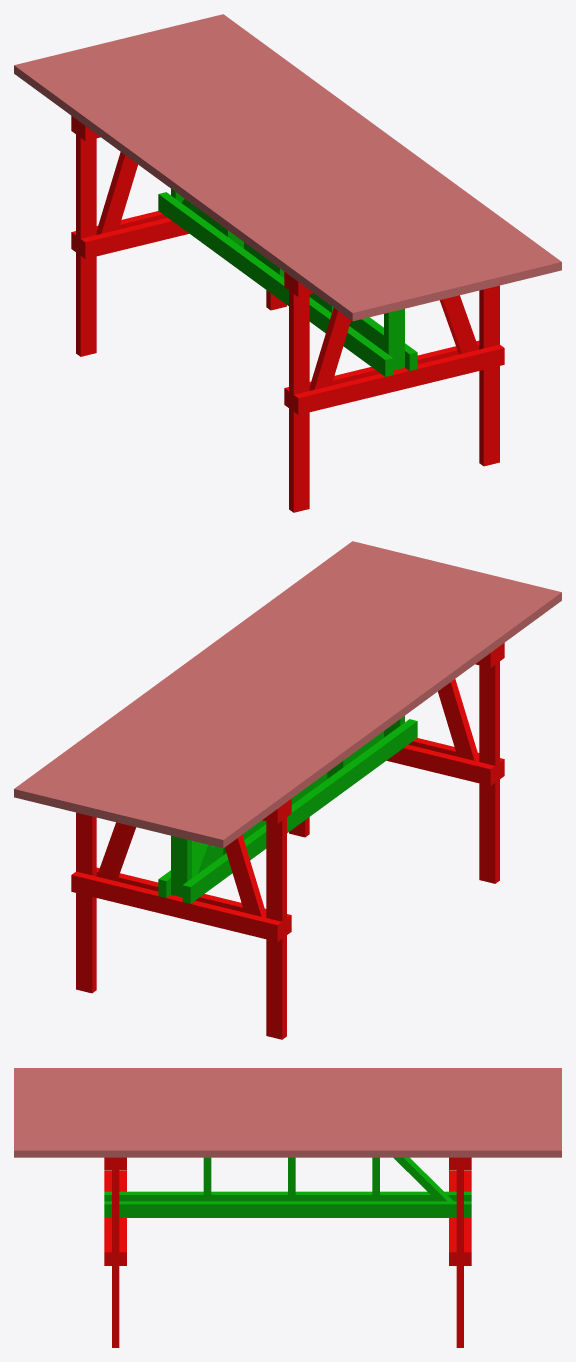
The model's file is result.glb.
3 renders of one model, top to bottom at view 1: azimuth 30°, elevation 25°; view 2: azimuth 150°, elevation 25°; view 3: azimuth 270°, elevation 25°, orthographic. The views are drawn at different scales.
Parts seen in each view (by area): view 1: 64c8e6c8-3844-4141-b42c-e5c18e9bd675__Box, 8f3fec48-50f9-4af4-b13b-73aef767db46__undefined, b4b7ebe3-3638-465e-91d8-79dbf4bd7125__undefined, 7a75452f-1663-47a5-9589-6c53cd72e0da__undefined, 125b6901-0248-40c8-92f4-7560e850ba07__undefined, b6d9eb4f-c9fe-4c9b-aad7-c926278a6fe2__undefined, 99f50f9e-8b29-4b91-a732-94531a97c9c9__undefined, 4fe8550d-0d2f-4fe7-bb27-e0c4a76a5436__undefined, 6ec6ea55-748f-479d-98bf-7e669bf8c9d5__undefined, d0fb13f0-03bb-4c6f-8eee-e5c182023d3f__undefined, b7c4f537-daaa-4b14-bb0e-05a75bc0e2c0__undefined, 234124cc-a335-464b-ab91-2c3960a74708__undefined (+13 smaller); view 2: 64c8e6c8-3844-4141-b42c-e5c18e9bd675__Box, 8f3fec48-50f9-4af4-b13b-73aef767db46__undefined, b4b7ebe3-3638-465e-91d8-79dbf4bd7125__undefined, 7a75452f-1663-47a5-9589-6c53cd72e0da__undefined, 125b6901-0248-40c8-92f4-7560e850ba07__undefined, b6d9eb4f-c9fe-4c9b-aad7-c926278a6fe2__undefined, 99f50f9e-8b29-4b91-a732-94531a97c9c9__undefined, 4fe8550d-0d2f-4fe7-bb27-e0c4a76a5436__undefined, 6ec6ea55-748f-479d-98bf-7e669bf8c9d5__undefined, d0fb13f0-03bb-4c6f-8eee-e5c182023d3f__undefined, b7c4f537-daaa-4b14-bb0e-05a75bc0e2c0__undefined, 234124cc-a335-464b-ab91-2c3960a74708__undefined (+13 smaller); view 3: 234124cc-a335-464b-ab91-2c3960a74708__undefined, a39efc03-6f25-4f58-bf3a-68cd64649c8c__strutH, 64c8e6c8-3844-4141-b42c-e5c18e9bd675__Box, 7a75452f-1663-47a5-9589-6c53cd72e0da__undefined, b6d9eb4f-c9fe-4c9b-aad7-c926278a6fe2__undefined, fd4c2e9e-67f8-42f8-b568-873e5a9f265a__undefined, b7c4f537-daaa-4b14-bb0e-05a75bc0e2c0__undefined, 99f50f9e-8b29-4b91-a732-94531a97c9c9__undefined, 125b6901-0248-40c8-92f4-7560e850ba07__undefined, 8f3fec48-50f9-4af4-b13b-73aef767db46__undefined, 4fe8550d-0d2f-4fe7-bb27-e0c4a76a5436__undefined, b4b7ebe3-3638-465e-91d8-79dbf4bd7125__undefined (+13 smaller).
Part boxes in pixels (<box>): 64c8e6c8-3844-4141-b42c-e5c18e9bd675__Box: <box>14,61,368,321</box>; 8f3fec48-50f9-4af4-b13b-73aef767db46__undefined: <box>127,34,481,293</box>; b4b7ebe3-3638-465e-91d8-79dbf4bd7125__undefined: <box>159,26,513,285</box>; 7a75452f-1663-47a5-9589-6c53cd72e0da__undefined: <box>30,57,384,317</box>; 125b6901-0248-40c8-92f4-7560e850ba07__undefined: <box>111,37,465,297</box>; b6d9eb4f-c9fe-4c9b-aad7-c926278a6fe2__undefined: <box>46,53,400,313</box>; 99f50f9e-8b29-4b91-a732-94531a97c9c9__undefined: <box>95,41,449,301</box>; 4fe8550d-0d2f-4fe7-bb27-e0c4a76a5436__undefined: <box>143,30,497,289</box>; 6ec6ea55-748f-479d-98bf-7e669bf8c9d5__undefined: <box>175,22,529,281</box>; d0fb13f0-03bb-4c6f-8eee-e5c182023d3f__undefined: <box>191,18,545,277</box>; b7c4f537-daaa-4b14-bb0e-05a75bc0e2c0__undefined: <box>78,45,432,305</box>; 234124cc-a335-464b-ab91-2c3960a74708__undefined: <box>207,14,561,274</box>; 64c8e6c8-3844-4141-b42c-e5c18e9bd675__Box: <box>207,588,561,848</box>; 8f3fec48-50f9-4af4-b13b-73aef767db46__undefined: <box>94,561,448,820</box>; b4b7ebe3-3638-465e-91d8-79dbf4bd7125__undefined: <box>62,553,416,812</box>; 7a75452f-1663-47a5-9589-6c53cd72e0da__undefined: <box>191,584,545,844</box>; 125b6901-0248-40c8-92f4-7560e850ba07__undefined: <box>110,564,464,824</box>; b6d9eb4f-c9fe-4c9b-aad7-c926278a6fe2__undefined: <box>175,580,529,840</box>; 99f50f9e-8b29-4b91-a732-94531a97c9c9__undefined: <box>126,568,480,828</box>; 4fe8550d-0d2f-4fe7-bb27-e0c4a76a5436__undefined: <box>78,557,432,816</box>; 6ec6ea55-748f-479d-98bf-7e669bf8c9d5__undefined: <box>46,549,400,808</box>; d0fb13f0-03bb-4c6f-8eee-e5c182023d3f__undefined: <box>30,545,384,804</box>; b7c4f537-daaa-4b14-bb0e-05a75bc0e2c0__undefined: <box>143,572,497,832</box>; 234124cc-a335-464b-ab91-2c3960a74708__undefined: <box>14,541,368,801</box>; 234124cc-a335-464b-ab91-2c3960a74708__undefined: <box>14,1144,561,1157</box>; a39efc03-6f25-4f58-bf3a-68cd64649c8c__strutH: <box>104,1201,471,1217</box>; 64c8e6c8-3844-4141-b42c-e5c18e9bd675__Box: <box>14,1068,561,1074</box>; 7a75452f-1663-47a5-9589-6c53cd72e0da__undefined: <box>14,1074,561,1080</box>; b6d9eb4f-c9fe-4c9b-aad7-c926278a6fe2__undefined: <box>14,1080,561,1086</box>; fd4c2e9e-67f8-42f8-b568-873e5a9f265a__undefined: <box>14,1087,561,1093</box>; b7c4f537-daaa-4b14-bb0e-05a75bc0e2c0__undefined: <box>14,1093,561,1099</box>; 99f50f9e-8b29-4b91-a732-94531a97c9c9__undefined: <box>14,1100,561,1106</box>; 125b6901-0248-40c8-92f4-7560e850ba07__undefined: <box>14,1106,561,1112</box>; 8f3fec48-50f9-4af4-b13b-73aef767db46__undefined: <box>14,1112,561,1118</box>; 4fe8550d-0d2f-4fe7-bb27-e0c4a76a5436__undefined: <box>14,1119,561,1125</box>; b4b7ebe3-3638-465e-91d8-79dbf4bd7125__undefined: <box>14,1125,561,1131</box>.
Size of the model in its own units: 650 by 725 by 1820.
